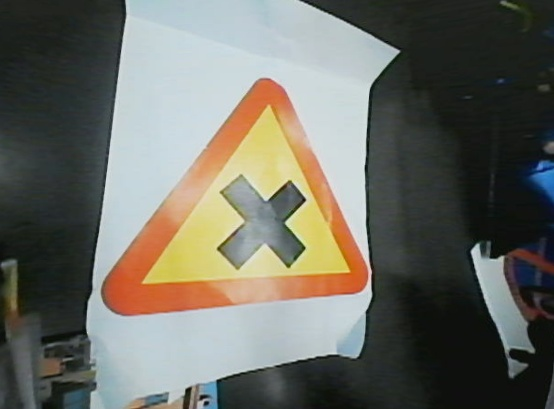junction: (100, 58, 375, 317)
